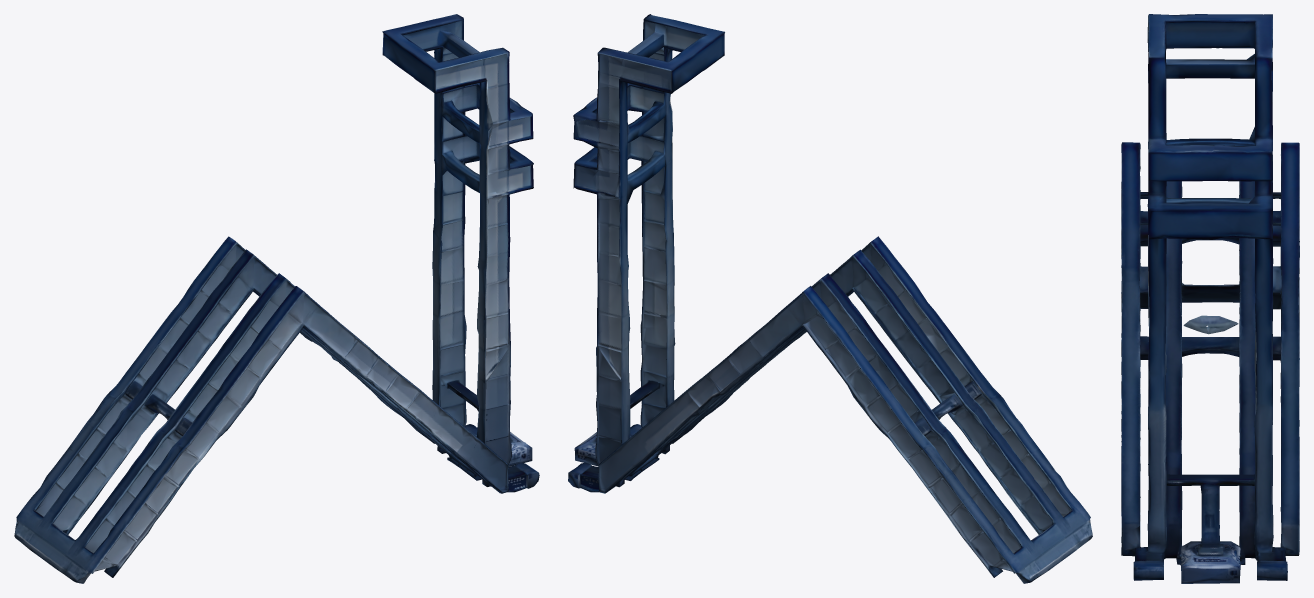
The model's file is snu-gwanak-front-gate.glb.
3 renders of one model, left to right at view 1: azimuth 30°, elevation 25°; view 2: azimuth 150°, elevation 25°; view 3: azimuth 270°, elevation 25°, orthographic. The views are drawn at different scales.
Visible parts, largest first — view 1: tripo_node_e9336f16-6380-4728-afd7-1ff17d2f9e1d; view 2: tripo_node_e9336f16-6380-4728-afd7-1ff17d2f9e1d; view 3: tripo_node_e9336f16-6380-4728-afd7-1ff17d2f9e1d.
Part boxes in pixels (x1,y1,x2,y2): tripo_node_e9336f16-6380-4728-afd7-1ff17d2f9e1d: (14,14,539,583); tripo_node_e9336f16-6380-4728-afd7-1ff17d2f9e1d: (568,14,1092,583); tripo_node_e9336f16-6380-4728-afd7-1ff17d2f9e1d: (1121,14,1299,583).
Size of the model in its own units: 1 by 0.8771 by 0.2758.
1 material, 1 textured.
